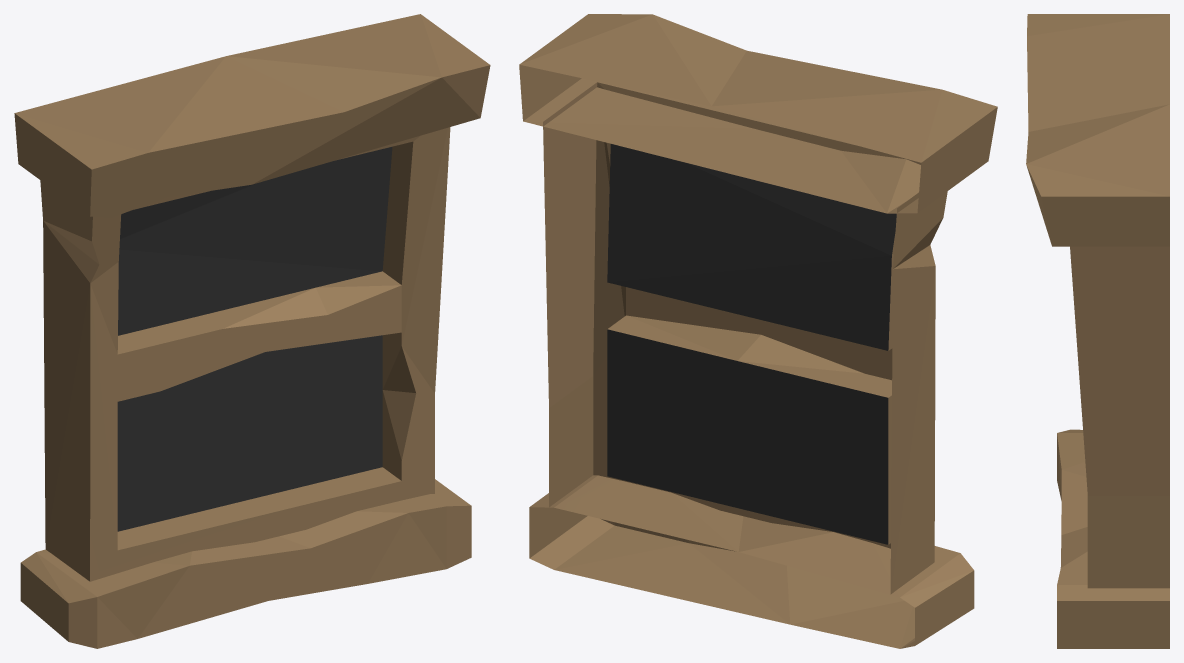
File: SM_Bld_House_Window_04.gltf
The picture shows the model from 3 angles, left to right: view 1: azimuth 30°, elevation 25°; view 2: azimuth 150°, elevation 25°; view 3: azimuth 270°, elevation 25°; orthographic projection. The views are drawn at different scales.
Visible parts, largest first — view 1: SM_Bld_House_Window_04; view 2: SM_Bld_House_Window_04; view 3: SM_Bld_House_Window_04.
Part boxes in pixels (x1=…): SM_Bld_House_Window_04: x1=14, y1=14, x2=490, y2=648; SM_Bld_House_Window_04: x1=519, y1=14, x2=997, y2=648; SM_Bld_House_Window_04: x1=1026, y1=14, x2=1169, y2=648.
Size of the model in its own units: 0.9771 by 1.17 by 0.3253.
1 material, 1 textured.
